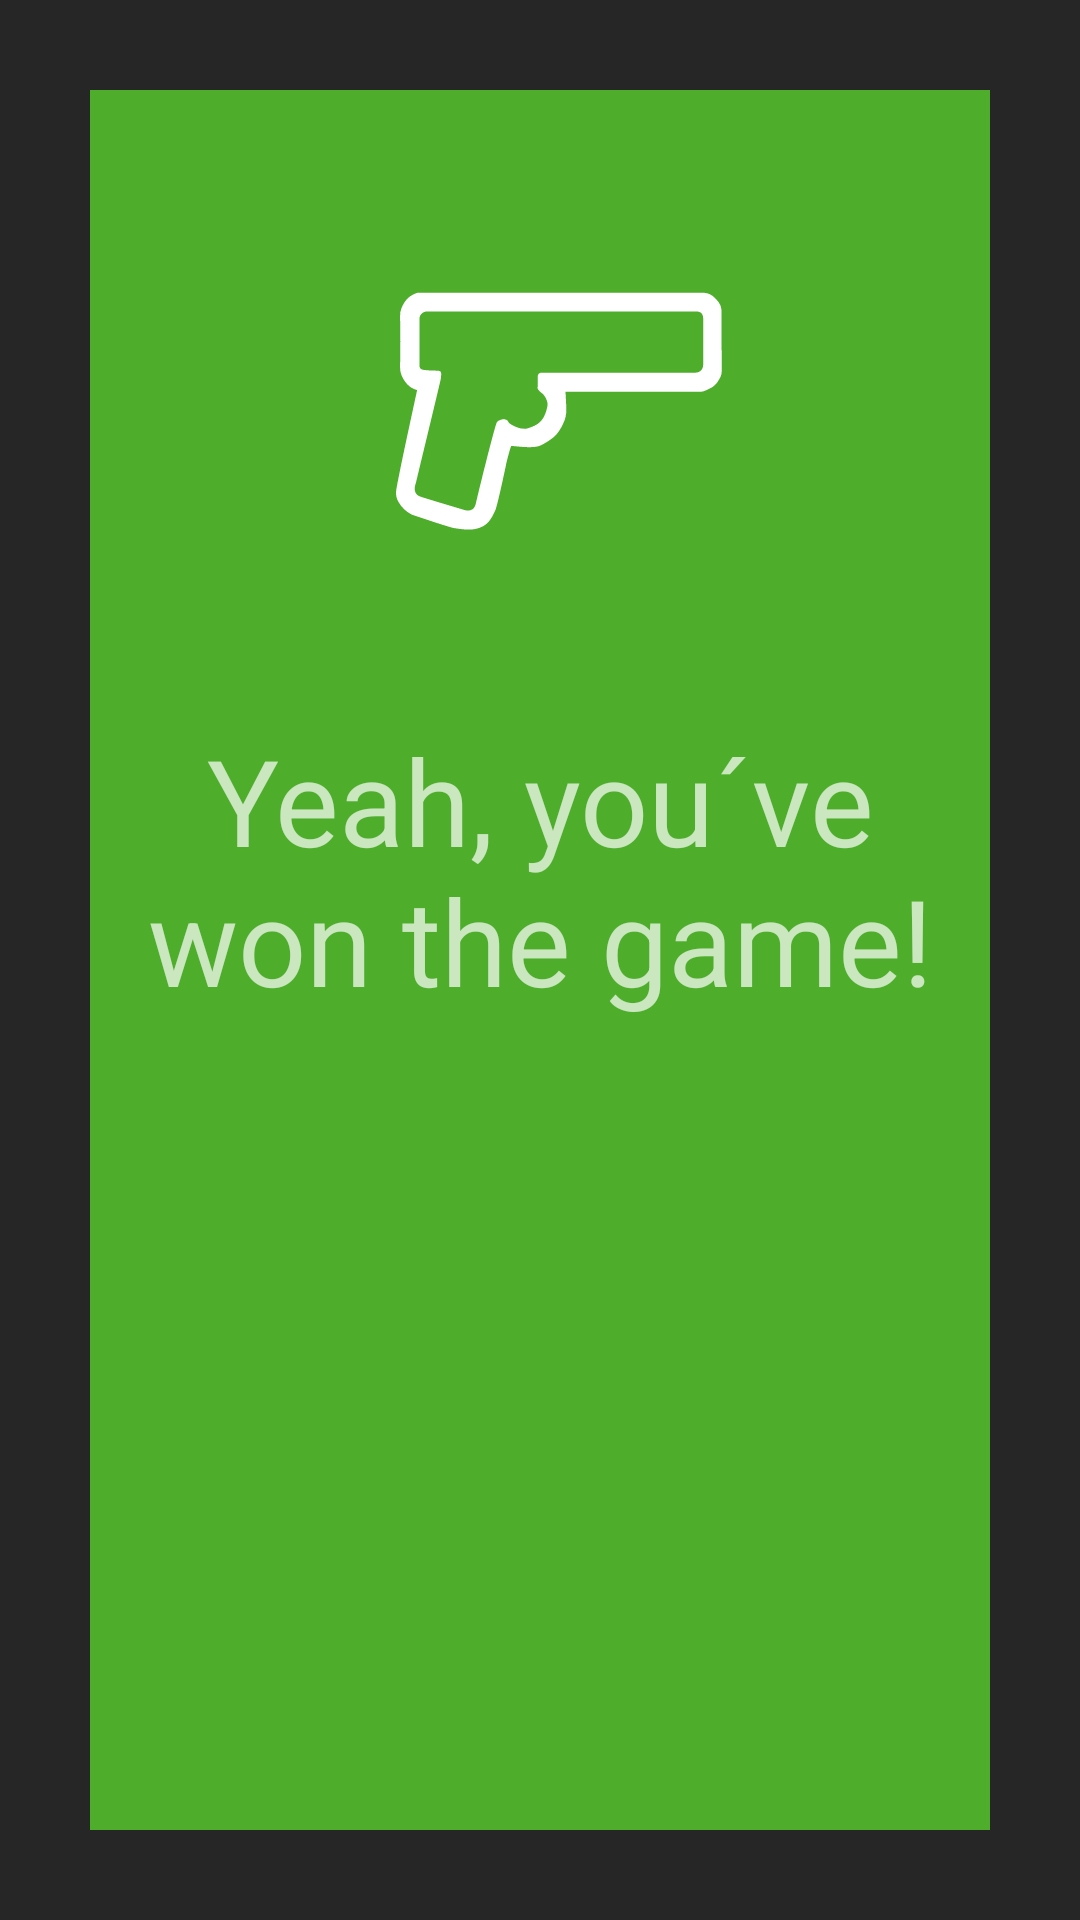

Icon click points for this 1080px x 1920px phone screenshot, format (x,y):
pistol: (559,411)
